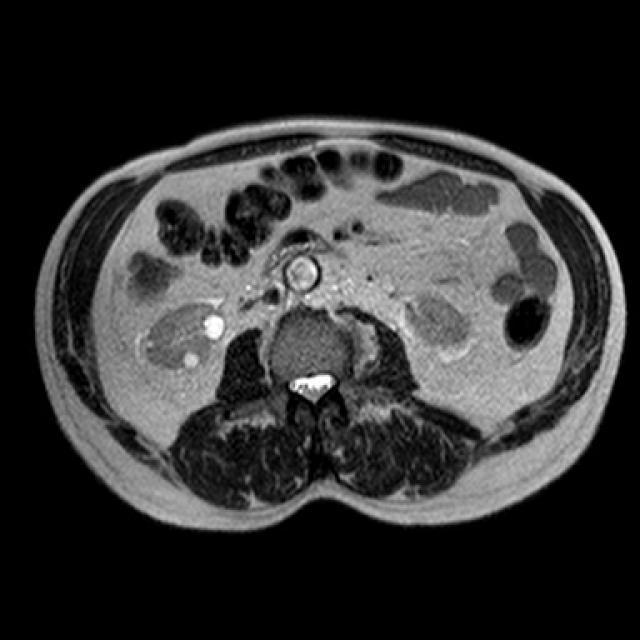sag: (141, 300, 227, 374)
sol: (399, 289, 472, 351)
